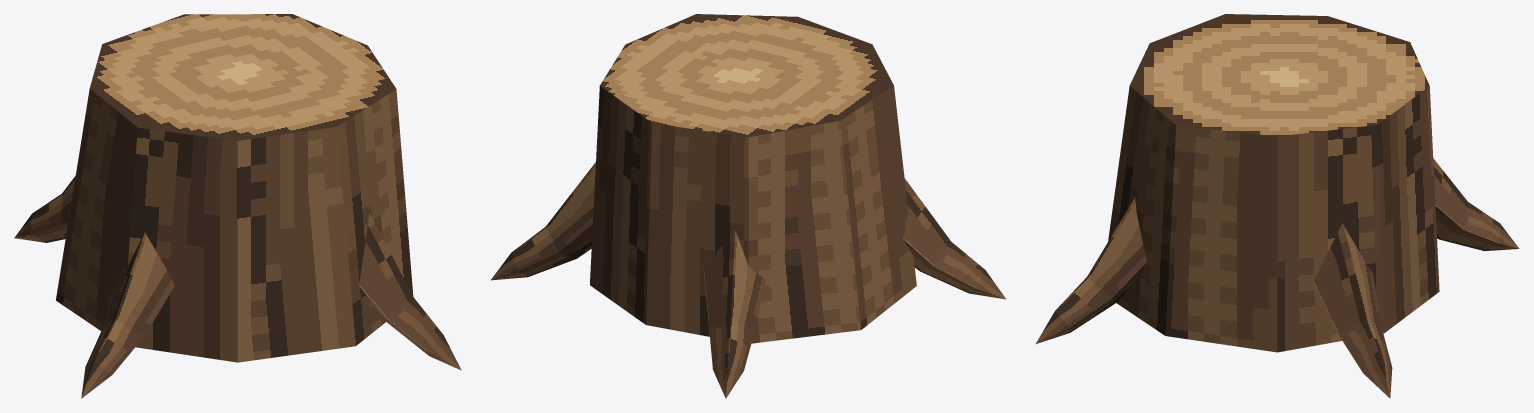
File: stump.glb
3 renders of one model, left to right at view 1: azimuth 30°, elevation 25°; view 2: azimuth 150°, elevation 25°; view 3: azimuth 270°, elevation 25°, orthographic. The views are drawn at different scales.
Visible parts, largest first — view 1: stump; view 2: stump; view 3: stump.
Boxes of the visible parts, <box> form: stump: <box>14,14,461,398</box>; stump: <box>491,14,1005,398</box>; stump: <box>1035,14,1519,398</box>.
Bounding box in the file's own units: 0.988 × 0.5 × 0.988.
1 material, 1 textured.
